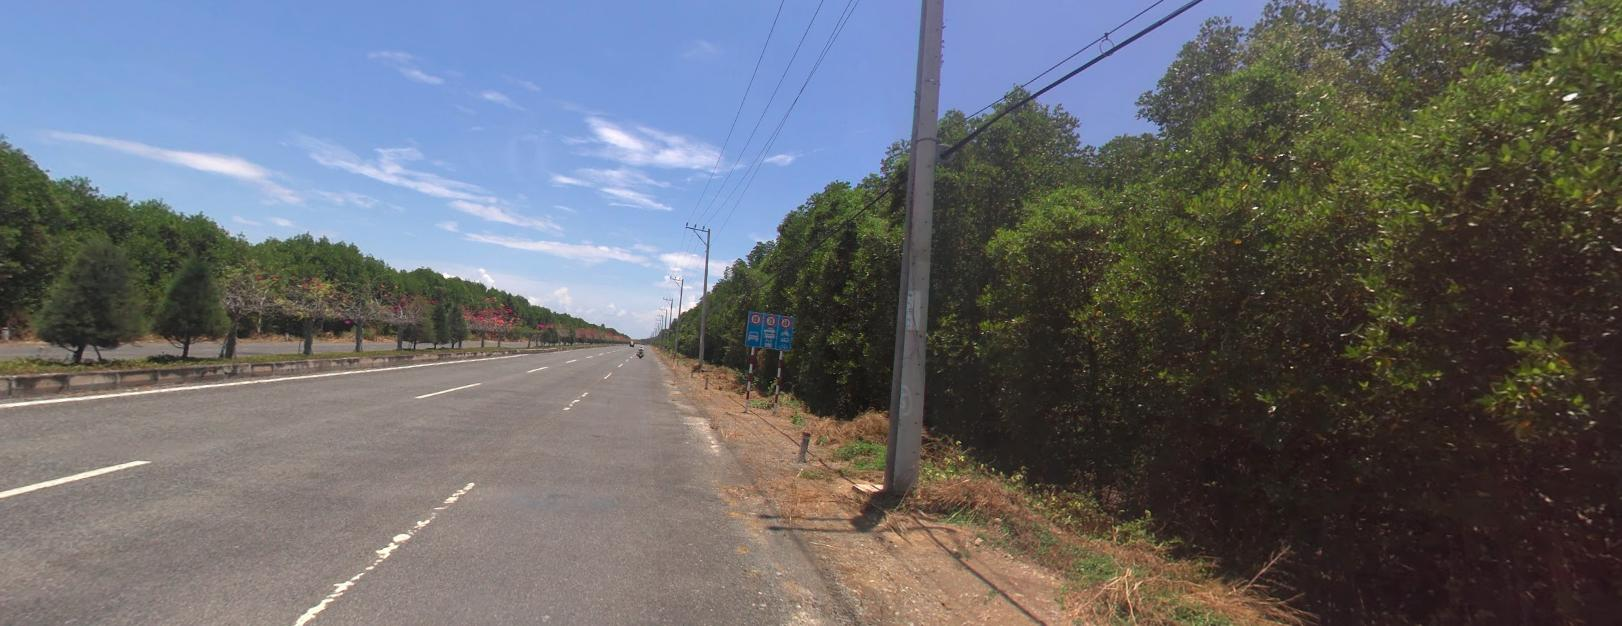Gioi han toc do: (750, 311, 760, 322), (765, 313, 775, 324), (781, 315, 790, 326)
